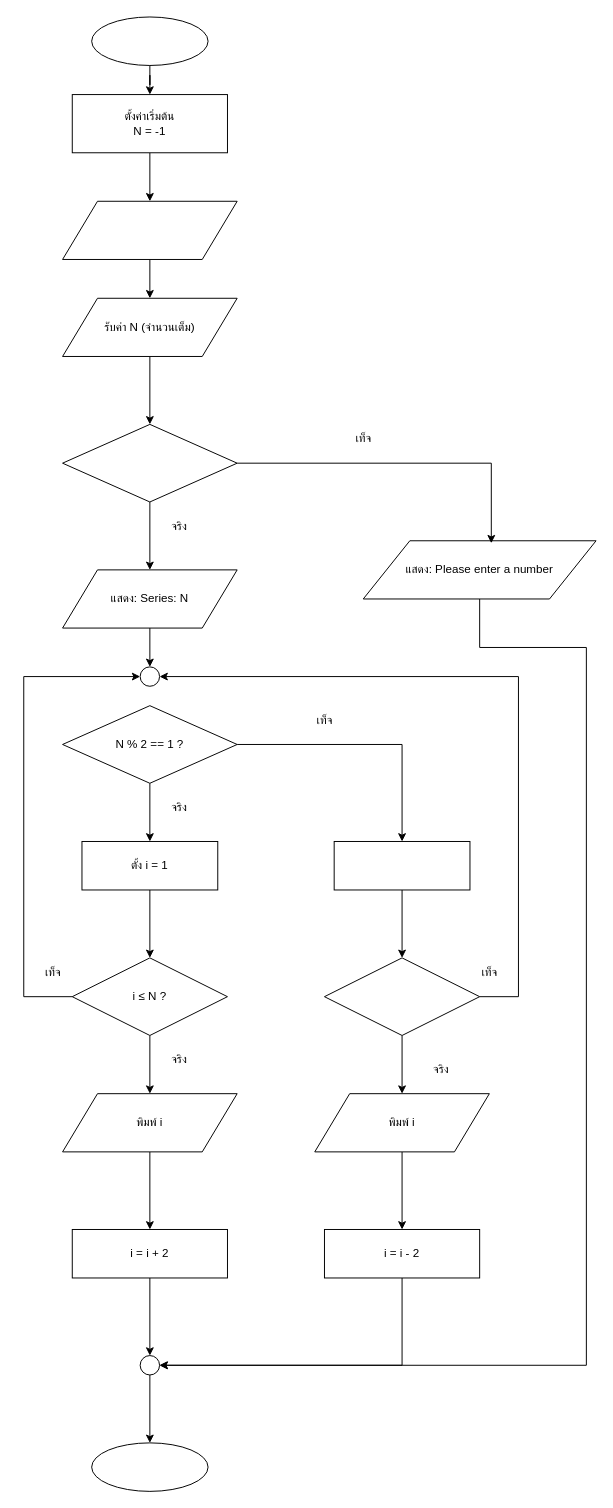
Some shapes in this 613 by 1508 pixel diagram are drawn without their labels. The shapes that lost their labels are listed below. From the top down, each one's box as (x1, y1, x2, y2) in pixels, then its label:
(91, 16, 208, 65): Start
(62, 200, 237, 259): แสดง: Enter value:
(62, 423, 237, 502): N < 0 ?
(333, 841, 470, 890): ตั้ง i = N
(323, 957, 480, 1035): i ≥ 0 ?
(91, 1442, 208, 1491): Stop
